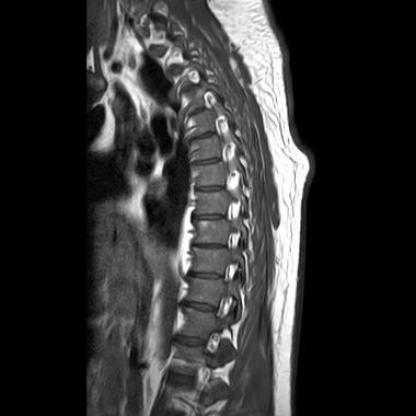Disc Protrusionrotation: (176, 89, 207, 118), (185, 130, 218, 145)
